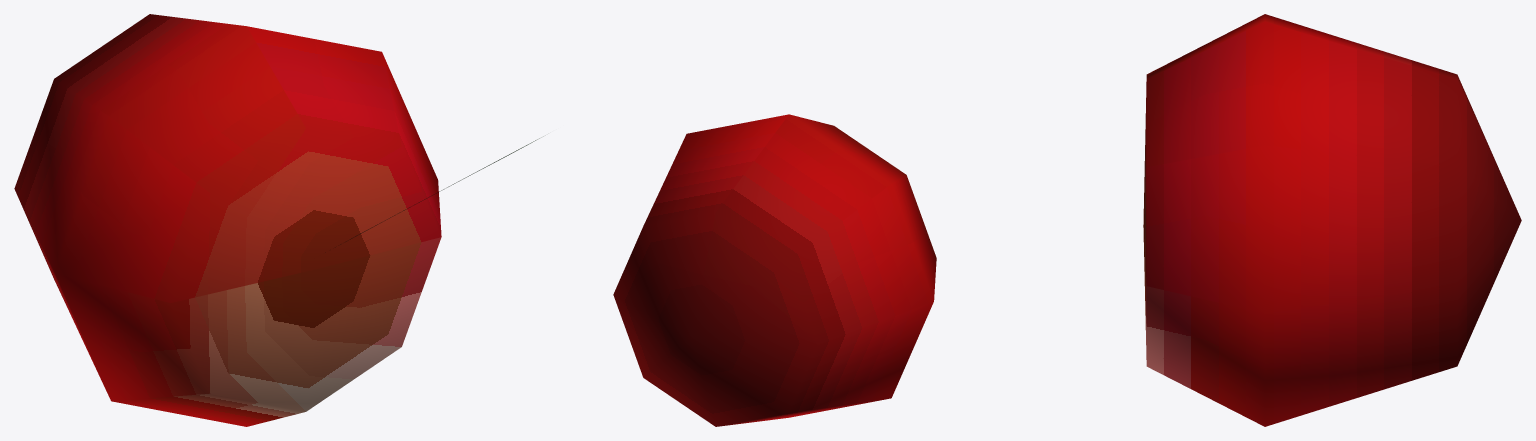
File: Potion01.glb
3 views of the same model, side by side, from view 1: azimuth 30°, elevation 25°; view 2: azimuth 150°, elevation 25°; view 3: azimuth 270°, elevation 25° (orthographic). The views are drawn at different scales.
Parts seen in each view (by area): view 1: model_Potion01; view 2: model_Potion01; view 3: model_Potion01.
Boxes of the visible parts, box(x1,y1,x2,y2) form: model_Potion01: box(14, 14, 543, 426); model_Potion01: box(613, 114, 936, 426); model_Potion01: box(1143, 14, 1521, 426).
Size of the model in its own units: 0.1687 by 0.1687 by 0.2137.
2 materials, 2 textured.
